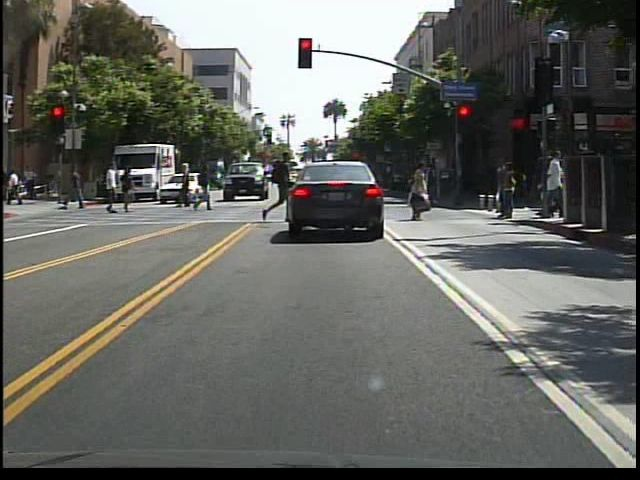person: (263, 147, 297, 225), (401, 158, 438, 227), (534, 149, 565, 223), (103, 161, 127, 218), (194, 163, 219, 215), (64, 164, 89, 214), (179, 163, 198, 211), (123, 167, 139, 214)
